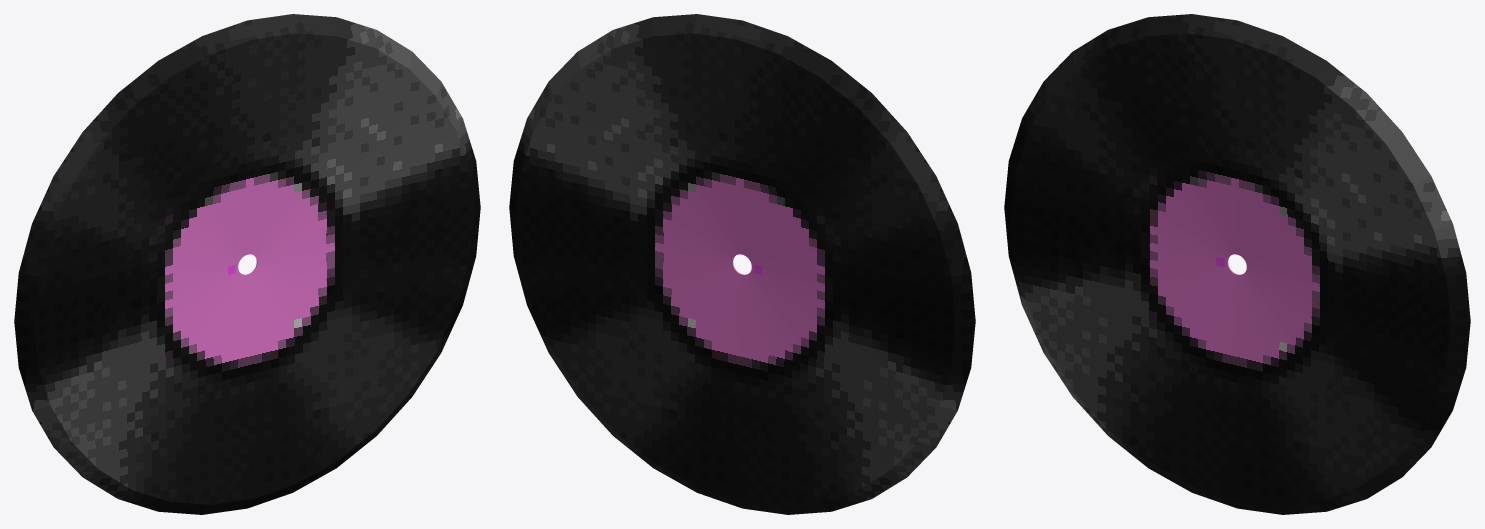
File: Record_Pink.glb
3 views of the same model, side by side, from view 1: azimuth 30°, elevation 25°; view 2: azimuth 150°, elevation 25°; view 3: azimuth 330°, elevation 25° (orthographic).
Visible parts, largest first — view 1: Cylinder; view 2: Cylinder; view 3: Cylinder.
Boxes of the visible parts, x1,y1,x2,y2 form: Cylinder: (14,14,480,514); Cylinder: (509,14,975,514); Cylinder: (1004,14,1470,514).
Size of the model in its own units: 2.12 by 2.12 by 0.1009.
Materials: 1 (1 with a texture image).
